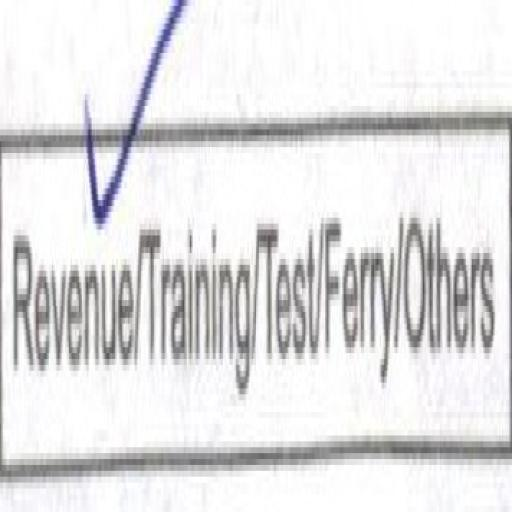check: (5, 0, 138, 466)
